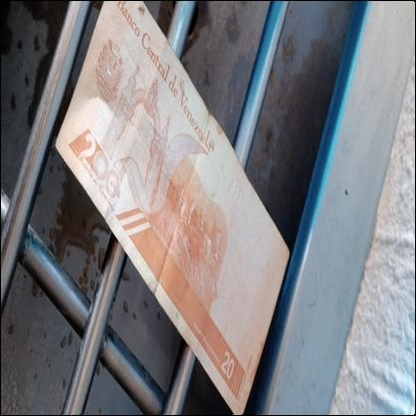twenty-back-vef: (53, 0, 290, 415)
